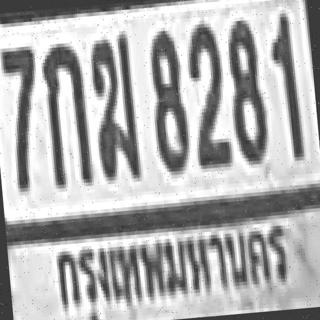A01: (39, 38, 90, 185)
A06: (87, 31, 139, 178)
N01: (266, 11, 301, 157)
N02: (185, 17, 230, 164)
N07: (0, 42, 44, 189)
N08: (144, 26, 188, 169), (224, 16, 266, 162)
P04: (46, 218, 293, 319)
